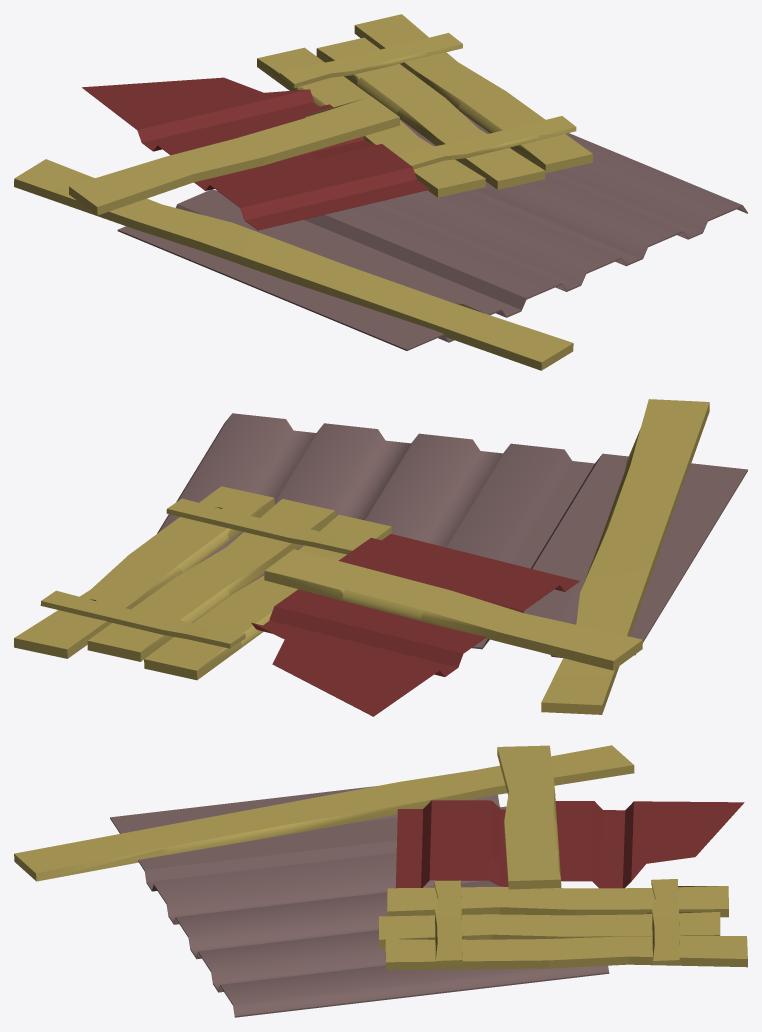
File: Debrris.fbx
3 renders of one model, top to bottom at view 1: azimuth 30°, elevation 25°; view 2: azimuth 150°, elevation 25°; view 3: azimuth 270°, elevation 25°, orthographic. The views are drawn at different scales.
Visible parts, largest first — view 1: pCube17, pCube24, pCube16, pCube18, pCube23, pCube22, pCube21, pCube20, pCube19; view 2: pCube17, pCube24, pCube16, pCube18, pCube23, pCube22, pCube21, pCube20, pCube19; view 3: pCube17, pCube24, pCube16, pCube23, pCube21, pCube18, pCube22, pCube20, pCube19.
Part boxes in pixels (left/top/right/bottom): pCube17: left=117, top=113, right=747, bottom=350; pCube24: left=82, top=77, right=429, bottom=230; pCube16: left=14, top=159, right=573, bottom=370; pCube18: left=69, top=96, right=400, bottom=215; pCube23: left=354, top=14, right=592, bottom=173; pCube22: left=316, top=37, right=545, bottom=189; pCube21: left=257, top=47, right=485, bottom=197; pCube20: left=280, top=33, right=462, bottom=88; pCube19: left=397, top=116, right=576, bottom=169; pCube17: left=157, top=413, right=747, bottom=657; pCube24: left=251, top=534, right=579, bottom=716; pCube16: left=541, top=399, right=709, bottom=714; pCube18: left=264, top=549, right=642, bottom=670; pCube23: left=14, top=486, right=274, bottom=658; pCube22: left=87, top=499, right=335, bottom=661; pCube21: left=144, top=514, right=391, bottom=680; pCube20: left=40, top=590, right=245, bottom=648; pCube19: left=166, top=498, right=366, bottom=554; pCube17: left=110, top=786, right=609, bottom=1017; pCube24: left=395, top=800, right=744, bottom=888; pCube16: left=14, top=745, right=634, bottom=881; pCube23: left=385, top=936, right=747, bottom=970; pCube21: left=387, top=886, right=728, bottom=917; pCube18: left=497, top=745, right=561, bottom=889; pCube22: left=379, top=912, right=720, bottom=947; pCube20: left=651, top=879, right=679, bottom=965; pCube19: left=434, top=880, right=462, bottom=965.
Bounding box in the file's own units: 3.92 × 0.3025 × 4.84.
